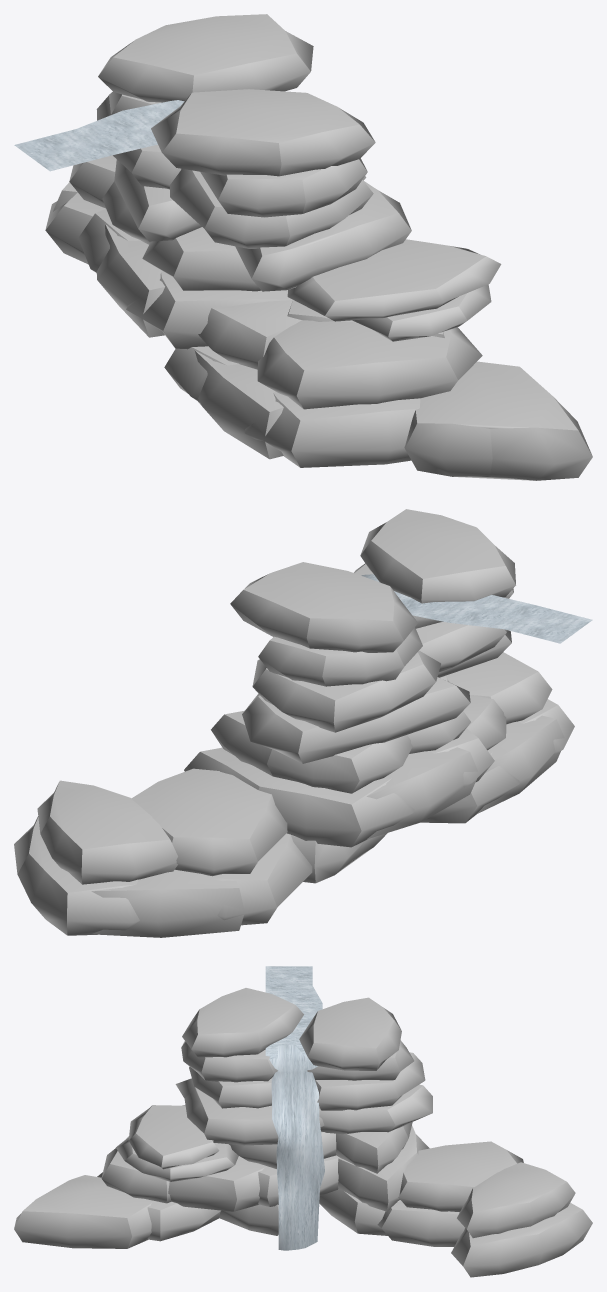
File: CaveFalls01.DAE
3 renders of one model, top to bottom at view 1: azimuth 30°, elevation 25°; view 2: azimuth 150°, elevation 25°; view 3: azimuth 270°, elevation 25°, orthographic. The views are drawn at different scales.
Parts seen in each view (by area): view 1: CaveFallsOne300; view 2: CaveFallsOne300; view 3: CaveFallsOne300.
Boxes of the visible parts, x1,y1,x2,y2 form: CaveFallsOne300: [14, 14, 592, 480]; CaveFallsOne300: [14, 509, 592, 937]; CaveFallsOne300: [14, 966, 592, 1277].
Size of what is drawn, in the model's own units: 81.46 by 134 by 49.78.
